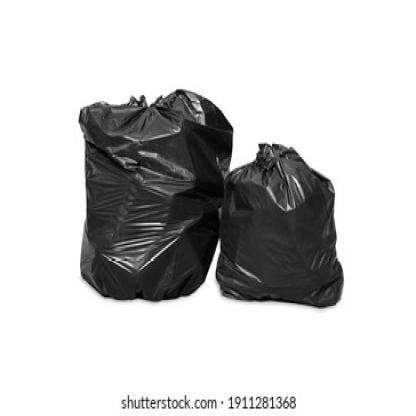black_bag: (77, 87, 235, 302), (215, 143, 345, 308)
